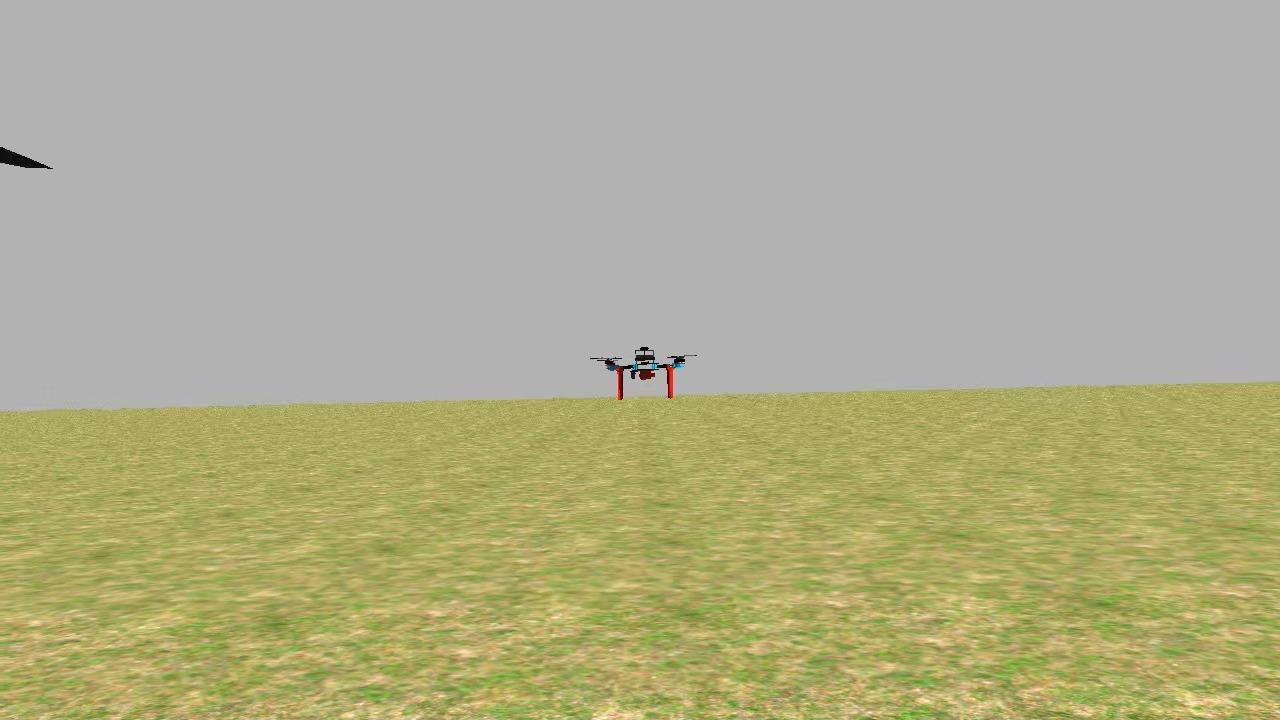UAV: (597, 329, 690, 399)
